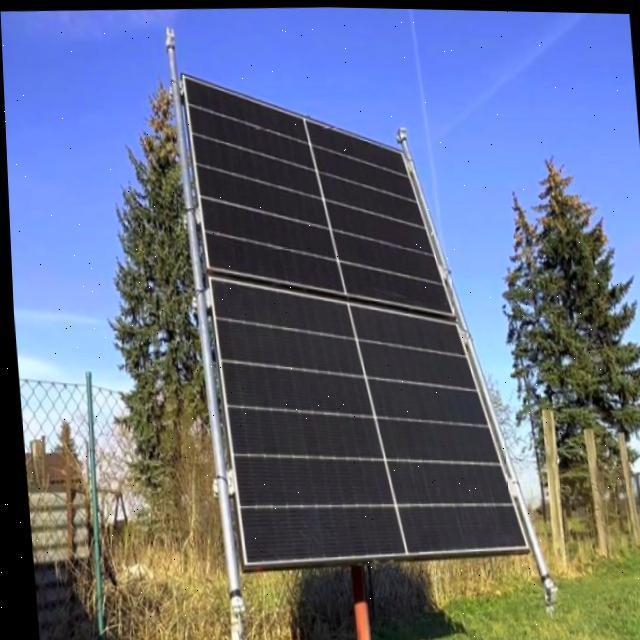Normal Solar Panel: (182, 64, 526, 574)
